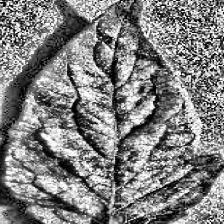spider mites: (0, 0, 223, 224)
